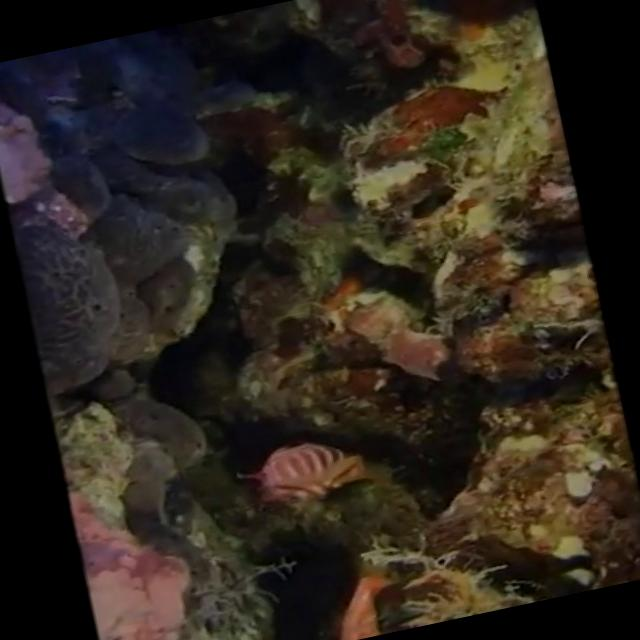Asker Baligi: (261, 420, 364, 515)
